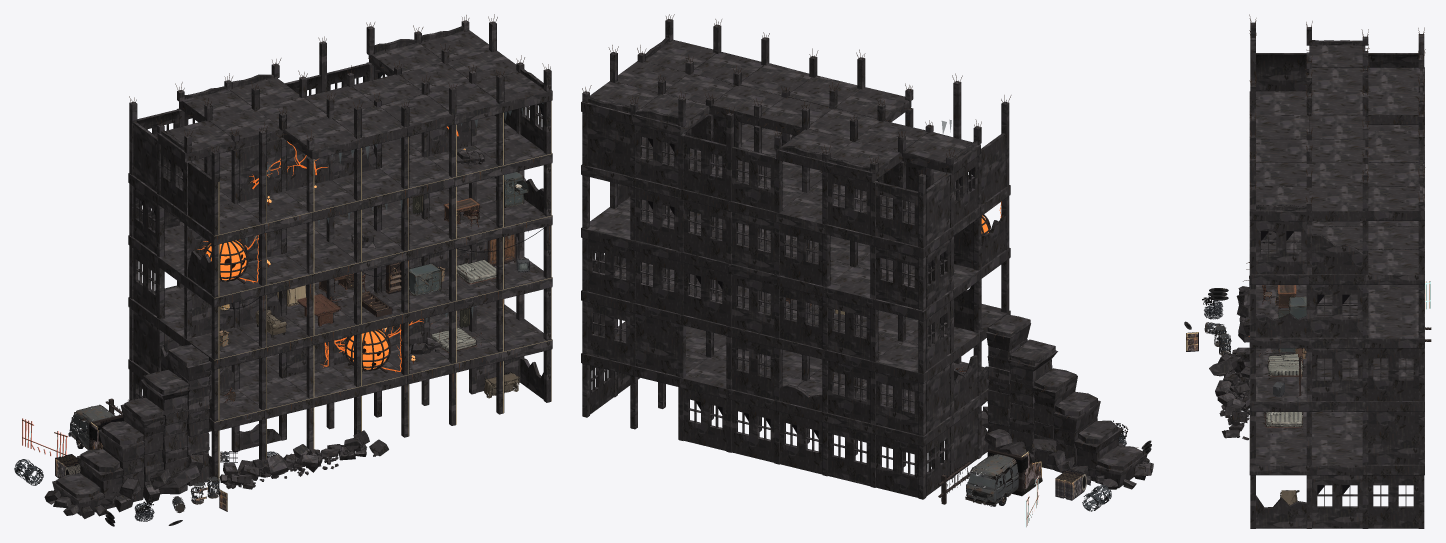
File: armazon.glb
3 renders of one model, left to right at view 1: azimuth 30°, elevation 25°; view 2: azimuth 150°, elevation 25°; view 3: azimuth 270°, elevation 25°, orthographic. The views are drawn at different scales.
Parts seen in each view (by area): view 1: Forjados, Pilares, Paredes, Escombros, Cantos, Cartones, Hierros, Trasto_furgoneta_mitad, Mueble_archivador.001, Venas, Orbe_2_Jaula, Mueble_cama.001 (+6 smaller); view 2: Paredes, Forjados, Pilares, Escombros, Trasto_furgoneta_mitad, Cartones, Hierros, Pixeles; view 3: Forjados, Paredes, Pilares, Escombros, Mueble_cama.001, Hierros, Mueble_cama.002, Cartones, Mueble_archivador.002, Mueble_escritorio.002, Hojas_rotas.
Part boxes in pixels (x1,y1,x2,y2): Forjados: (128, 30, 552, 431); Pilares: (129, 20, 551, 482); Paredes: (133, 26, 543, 477); Escombros: (44, 149, 485, 518); Cantos: (214, 101, 552, 480); Cartones: (22, 418, 227, 526); Hierros: (67, 14, 550, 499); Trasto_furgoneta_mitad: (68, 404, 115, 449); Mueble_archivador.001: (409, 263, 441, 295); Venas: (197, 126, 458, 371); Orbe_2_Jaula: (344, 329, 390, 373); Mueble_cama.001: (456, 249, 496, 287); Paredes: (587, 37, 1005, 497); Forjados: (581, 40, 1010, 446); Pilares: (582, 19, 1009, 499); Escombros: (741, 122, 1153, 489); Trasto_furgoneta_mitad: (965, 454, 1018, 506); Cartones: (1021, 440, 1151, 526); Hierros: (582, 14, 1138, 470); Pixeles: (931, 420, 1128, 495); Forjados: (1249, 45, 1424, 475); Paredes: (1256, 40, 1422, 528); Pilares: (1250, 22, 1424, 528); Escombros: (1209, 231, 1276, 440); Mueble_cama.001: (1259, 348, 1303, 380); Hierros: (1243, 14, 1425, 281); Mueble_cama.002: (1264, 412, 1303, 435); Cartones: (1184, 281, 1430, 351); Mueble_archivador.002: (1278, 296, 1306, 319); Mueble_escritorio.002: (1275, 285, 1296, 308); Hojas_rotas: (1261, 231, 1349, 494).
Bounding box in the file's own units: 24.83 × 16.86 × 10.67.
30 materials, 22 textured.
